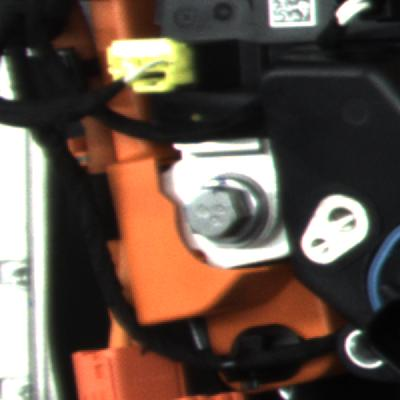nut_b: (174, 166, 276, 261)
